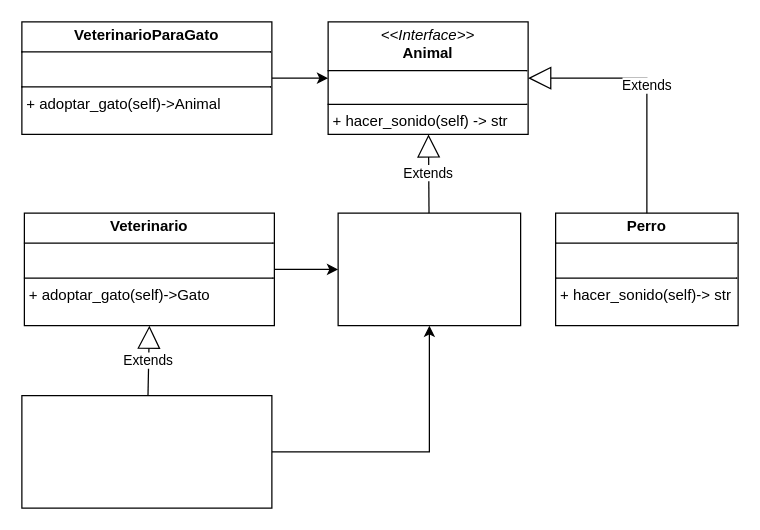
This 760x530 diagram has some shape labels left out. The box of each missing label's shape, as (x1, y1, x2, y2) in pixels:
Gato + hacer_sonido(self)-> str: (337, 212, 521, 326)
VeterinarioEspecializado + adoptar_gato(self)->Gato: (21, 394, 272, 508)
